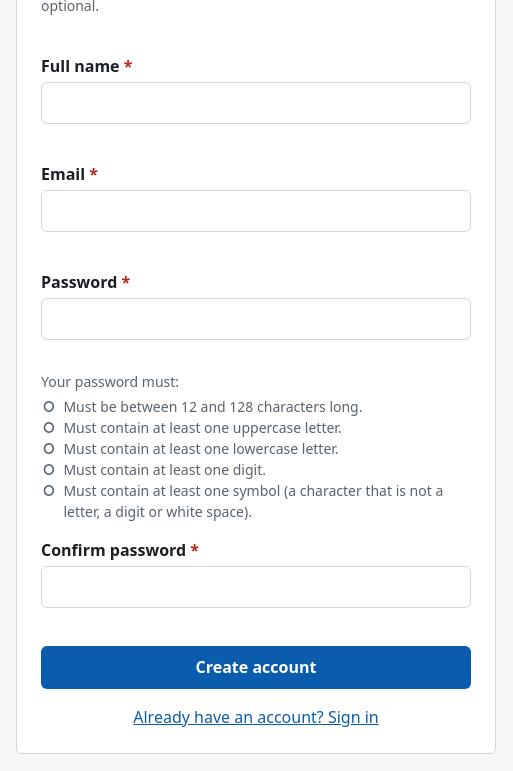
Scenario: client-side validation › does not send an invalid form; it lists the problems and moves focus to the summary
(page scrolled)
Click the button with test id "register-submit". click: (256, 667)
box: [41,646,471,689]
(page scrolled)
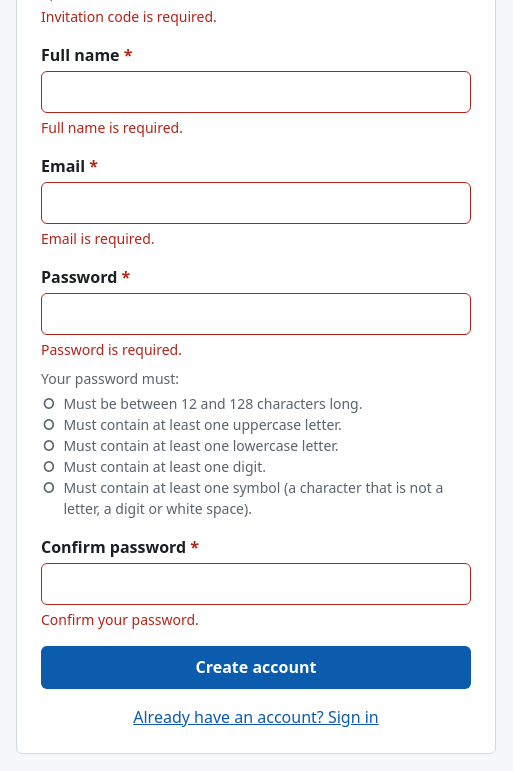
Now the text "Invitation code is required." is shown, box [41,7,217,26]
Now the text "Full name is required." is shown, box [41,118,183,137]
Now the text "Email is required." is shown, box [41,229,155,248]
